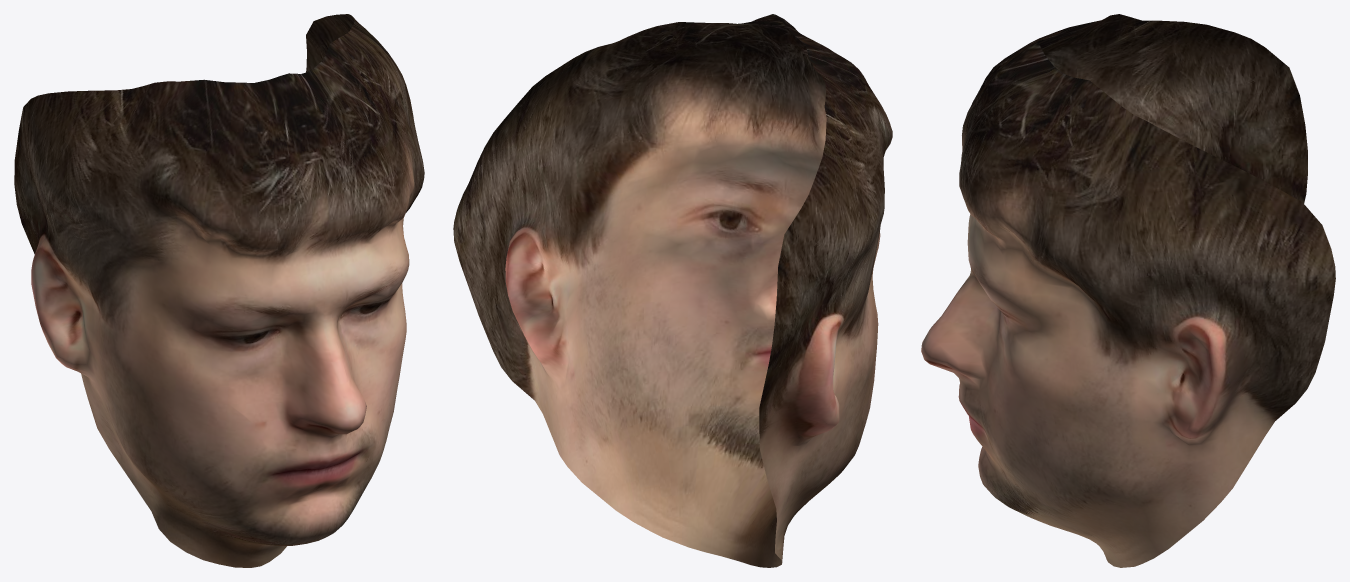
File: headScanLow.glb
3 renders of one model, left to right at view 1: azimuth 30°, elevation 25°; view 2: azimuth 150°, elevation 25°; view 3: azimuth 270°, elevation 25°, orthographic.
Visible parts, largest first — view 1: Node; view 2: Node; view 3: Node.
Boxes of the visible parts, x1,y1,x2,y2 form: Node: [14, 14, 424, 567]; Node: [453, 14, 892, 567]; Node: [921, 14, 1335, 567].
Bounding box in the file's own units: 187 × 269 × 197.
Materials: 1 (1 with a texture image).
